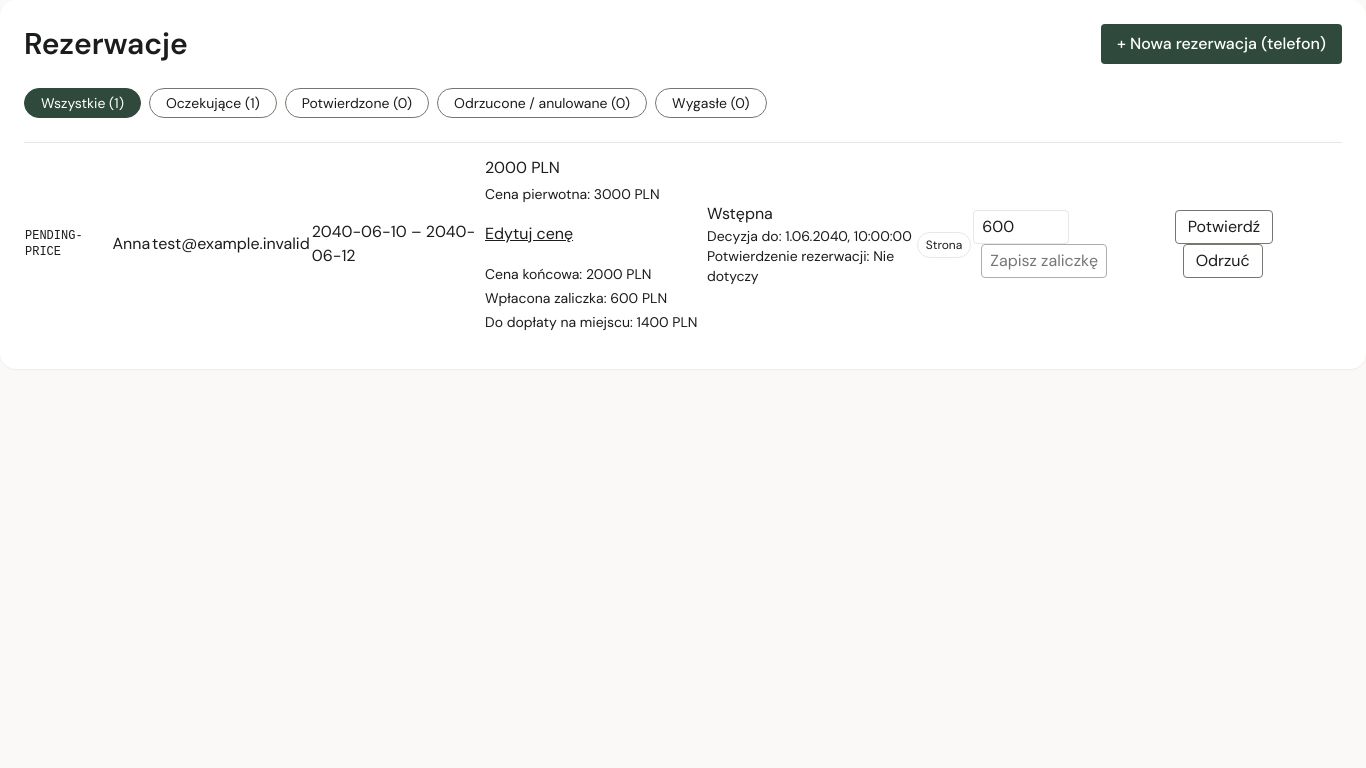
Test: pending booking price editor › preserves the original quote when switching between manual and discount modes
Expected: the text "Anna" is shown, [111, 142, 151, 345]
Step 1. Click the button "Edytuj cenę" → (529, 234), box [485, 212, 573, 256]
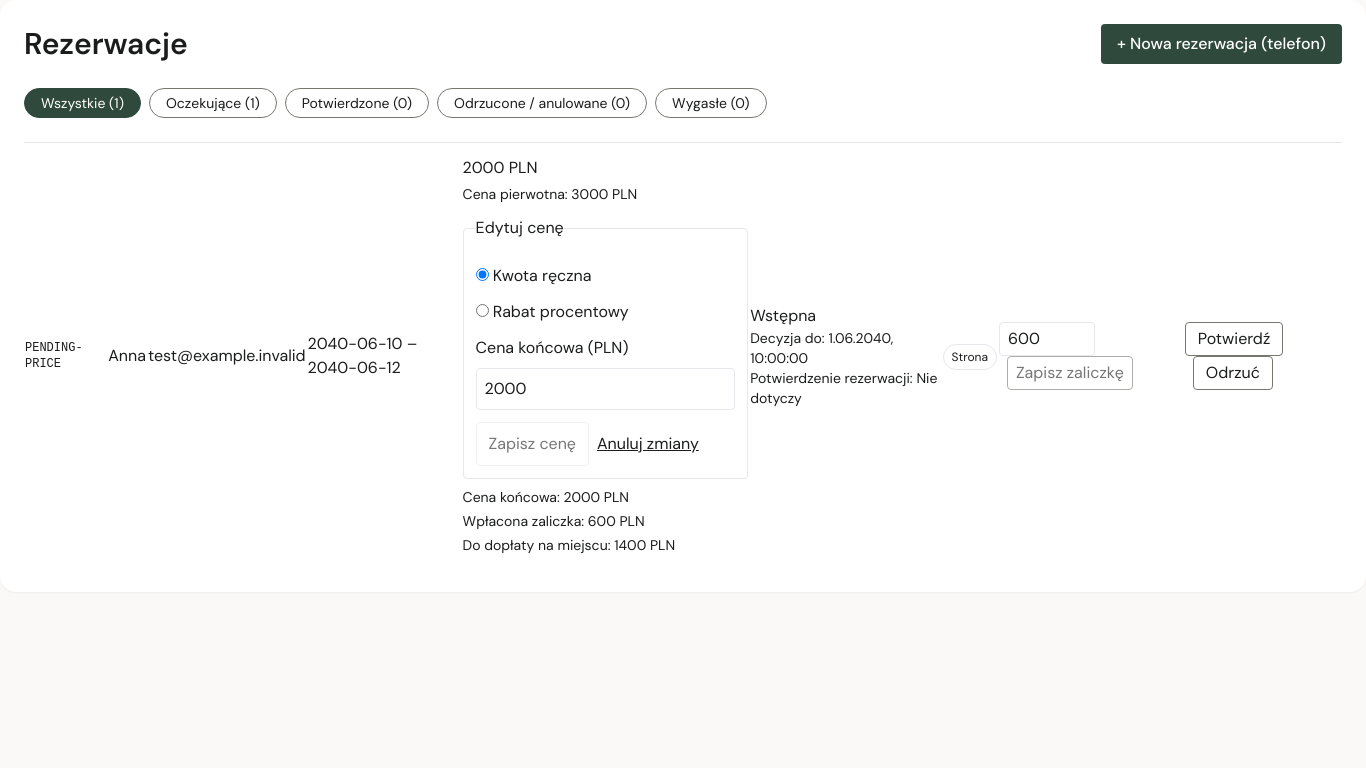
Step 2. Click the radio button labelled "Rabat procentowy" → (482, 310), box [476, 304, 489, 317]
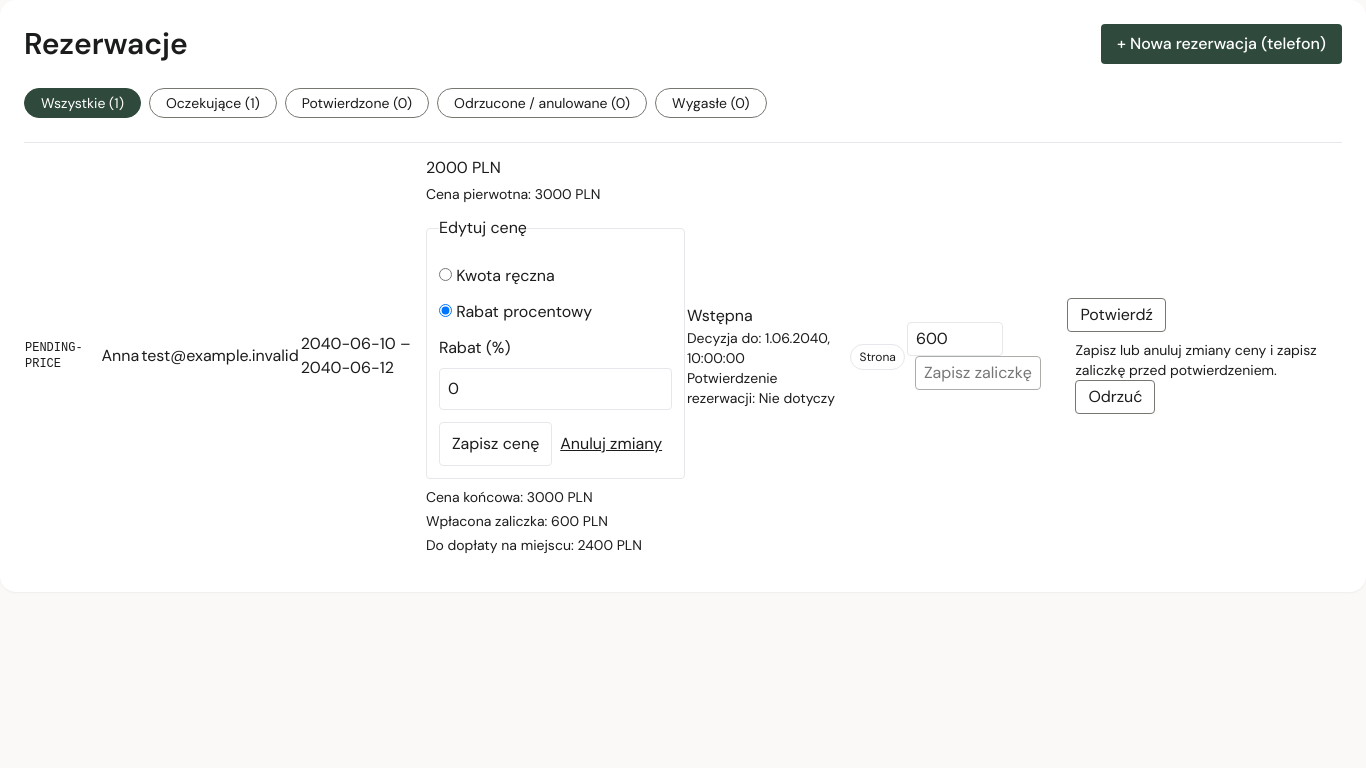
Step 3. Replace the text in the field labelled "Rabat (%)" with "10" → (555, 389), box [439, 368, 672, 410]
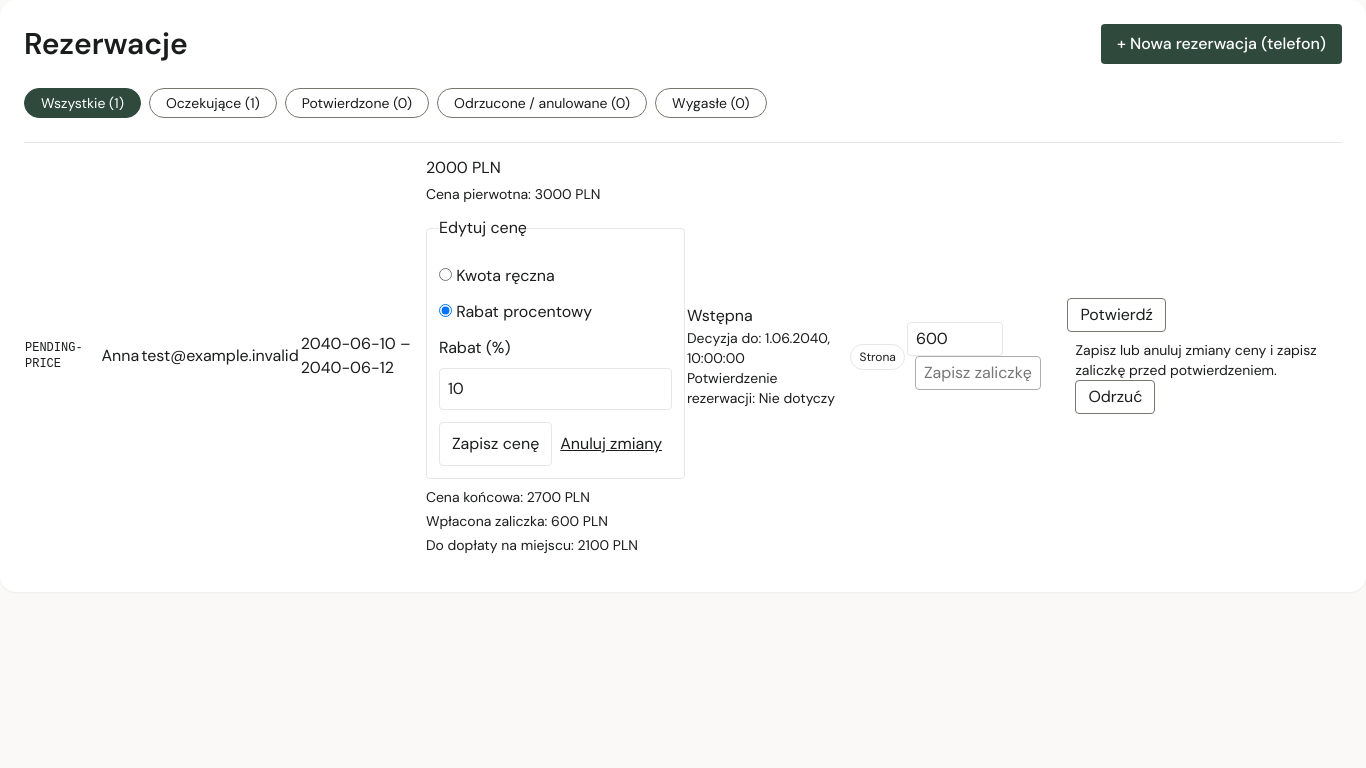
Expected: the text "Cena końcowa: 2700 PLN" is shown, [426, 488, 590, 506]
